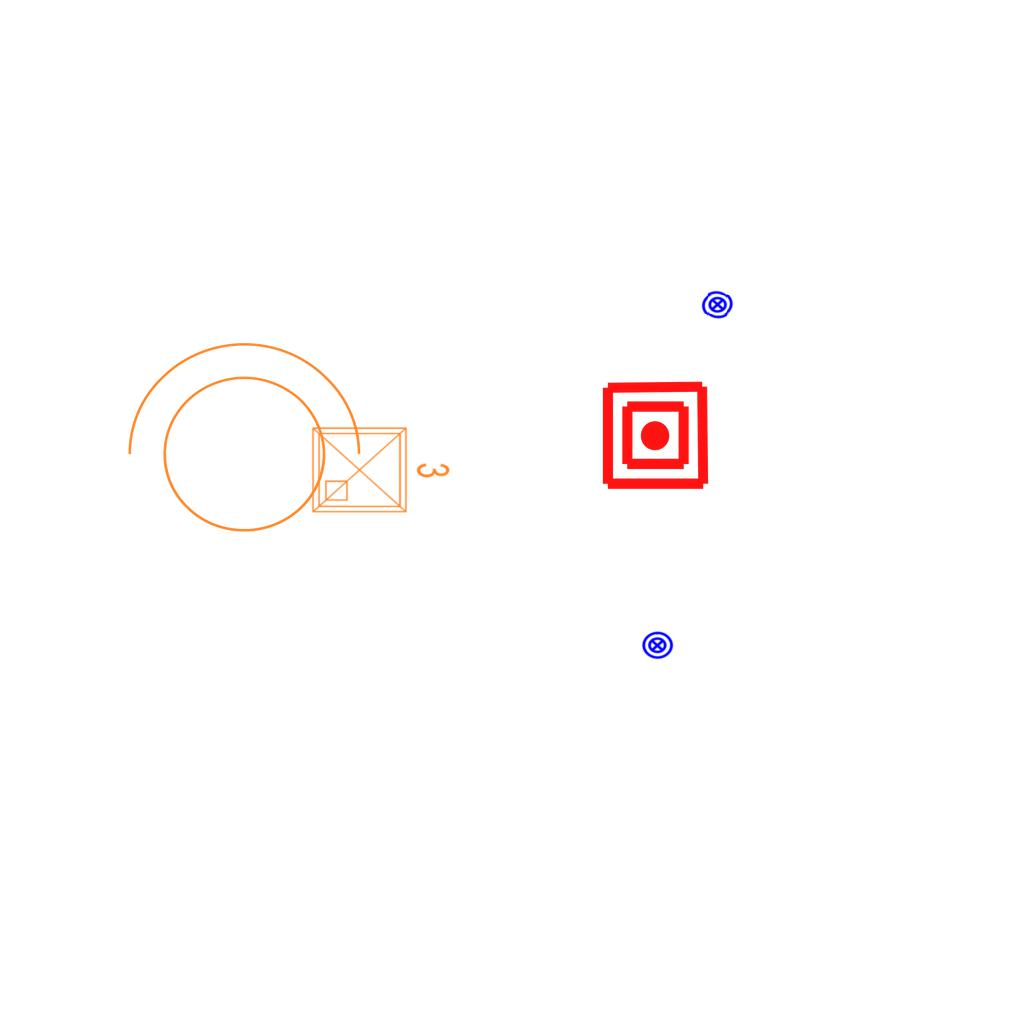Einbaudownlights_LED_Konferenzraeume: (305, 416, 455, 520)
NAM-Nichtautomatischer_Melder: (599, 379, 712, 492)
Scheinwerfer_fuer_Alarmbeleuchtung: (106, 332, 370, 557)
Taster_beleuchtet: (700, 287, 735, 322), (641, 629, 674, 662)
